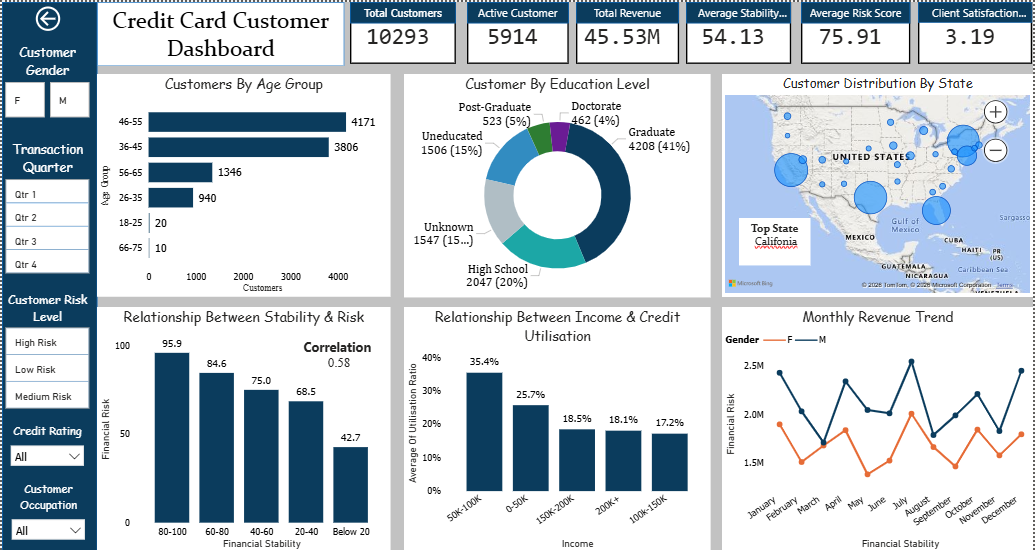

The dashboard page shown, as its layout file describes it:
{"tool":"powerbi","page":{"name":"Customer Dashboard","canvas":[1500,800],"ordinal":0},"visuals":[{"type":"shape","box":[0,0,138.7,800],"z":0},{"type":"shape","box":[224.2,95.2,421,24.2],"z":1000},{"type":"clusteredColumnChart","title":"Financial Stability vs Risk","fields":{"Category":["Financial_Stability.Stability_bins"],"Y":["Avg(Financial_Risk.Risk_Score)"]},"box":[138.7,459.7,450,340.3],"z":2000},{"type":"lineStackedColumnComboChart","title":"Income vs Utilization","fields":{"Category":["customer.Income_band"],"Y":["Avg(CreditCard.Avg_Utilization_Ratio)"]},"box":[139.2,120,486.4,320],"z":3000},{"type":"shape","box":[982.3,95.2,421,24.2],"z":4000},{"type":"clusteredBarChart","title":"Customers By Age Group","fields":{"Category":["customer.Age_Grp"],"Y":["CreditCard.Total_customers"]},"box":[600,440.3,438.7,359.7],"z":5000},{"type":"shapeMap","title":"Geographic Concentration Of Customers","fields":{"Category":["50 States.State"],"Value":["CreditCard.Total_customers"]},"box":[645.2,127.4,472.6,312.9],"z":6000},{"type":"donutChart","title":"Customer By Education Level","fields":{"Category":["customer.Education_Level"],"Y":["CreditCard.Total_customers"]},"box":[1024,440,476.8,360],"z":7000},{"type":"textbox","box":[1117.7,127.4,382.3,312.9],"z":8000},{"type":"advancedSlicerVisual","title":"Gender","fields":{"Values":["customer.Gender"]},"box":[0,95.2,138.7,135.5],"z":9000},{"type":"advancedSlicerVisual","title":"Gender","fields":{"Values":["Financial_Risk.Risk Category"]},"box":[0,245.2,138.7,171],"z":10000},{"type":"slicer","title":"⭐⭐⭐⭐⭐","fields":{"Values":["customer.Cust_Satisfaction_Score"]},"box":[6.5,656.5,125.8,67.7],"z":11000},{"type":"slicer","title":"Occupation","fields":{"Values":["customer.Customer_Job"]},"box":[6.5,741.9,125.8,58.1],"z":12000},{"type":"card","title":"Top State","fields":{"Values":["Min(customer.State)"]},"box":[922.6,390.3,87.1,50],"z":13000},{"type":"cardVisual","title":"Total Customers","fields":{"Data":["CreditCard.Total_customers"]},"box":[138.7,0,230.6,85.5],"z":14000},{"type":"cardVisual","title":"Total Customers","fields":{"Data":["CreditCard.Active_customers"]},"box":[395.2,0,230.6,85.5],"z":15000},{"type":"cardVisual","title":"Total Customers","fields":{"Data":["Avg(customer.Income)"]},"box":[651.6,0,230.6,85.5],"z":16000},{"type":"cardVisual","title":"Total Customers","fields":{"Data":["Avg(Financial_Stability.Financial_Stability_Score)"]},"box":[908.1,0,230.6,85.5],"z":17000},{"type":"cardVisual","title":"Total Customers","fields":{"Data":["Avg(Financial_Risk.Risk_Score)"]},"box":[1172.6,0,230.6,85.5],"z":18000},{"type":"image","box":[529,0,96.8,85.5],"z":19000},{"type":"image","box":[258.1,0,124.2,85.5],"z":20000},{"type":"image","box":[782.3,0,100,85.5],"z":21000},{"type":"image","box":[1308.8,6.4,92.8,72],"z":22000},{"type":"image","box":[1045.2,0,93.5,85.5],"z":23000},{"type":"shape","box":[138.7,0,143.5,30],"z":24000},{"type":"shape","box":[395.2,0,137.1,30],"z":25000},{"type":"shape","box":[651.6,0,137.1,30],"z":26000},{"type":"shape","box":[908.1,0,137.1,30],"z":27000},{"type":"shape","box":[1172.6,0,137.1,30],"z":28000},{"type":"slicer","title":"Use Chip","fields":{"Values":["CreditCard.Week_Start_Date.Variation.Date Hierarchy.Quarter"]},"box":[6.5,572.6,125.8,58.1],"z":29000},{"type":"image","box":[0,416.1,138.7,154.8],"z":30000},{"type":"image","box":[69.4,119.4,51.6,54.8],"z":31000},{"type":"image","box":[75.2,174.4,33.6,56],"z":32000}]}

Visuals, with their boxes in screenshot pixels (x1, y1, x2, y2), scaled from the page's 1500x800 canvas onto the 1035x550 screenshot:
shape: box(0, 0, 96, 549)
shape: box(155, 65, 445, 82)
"Financial Stability vs Risk" clusteredColumnChart: box(96, 316, 406, 549)
"Income vs Utilization" lineStackedColumnComboChart: box(96, 82, 432, 302)
shape: box(678, 65, 968, 82)
"Customers By Age Group" clusteredBarChart: box(414, 303, 717, 549)
"Geographic Concentration Of Customers" shapeMap: box(445, 88, 771, 303)
"Customer By Education Level" donutChart: box(707, 302, 1034, 549)
textbox: box(771, 88, 1034, 303)
"Gender" advancedSlicerVisual: box(0, 65, 96, 159)
"Gender" advancedSlicerVisual: box(0, 169, 96, 286)
"⭐⭐⭐⭐⭐" slicer: box(4, 451, 91, 498)
"Occupation" slicer: box(4, 510, 91, 549)
"Top State" card: box(637, 268, 697, 303)
"Total Customers" cardVisual: box(96, 0, 255, 59)
"Total Customers" cardVisual: box(273, 0, 432, 59)
"Total Customers" cardVisual: box(450, 0, 609, 59)
"Total Customers" cardVisual: box(627, 0, 786, 59)
"Total Customers" cardVisual: box(809, 0, 968, 59)
image: box(365, 0, 432, 59)
image: box(178, 0, 264, 59)
image: box(540, 0, 609, 59)
image: box(903, 4, 967, 54)
image: box(721, 0, 786, 59)
shape: box(96, 0, 195, 21)
shape: box(273, 0, 367, 21)
shape: box(450, 0, 544, 21)
shape: box(627, 0, 721, 21)
shape: box(809, 0, 904, 21)
"Use Chip" slicer: box(4, 394, 91, 434)
image: box(0, 286, 96, 392)
image: box(48, 82, 83, 120)
image: box(52, 120, 75, 158)
